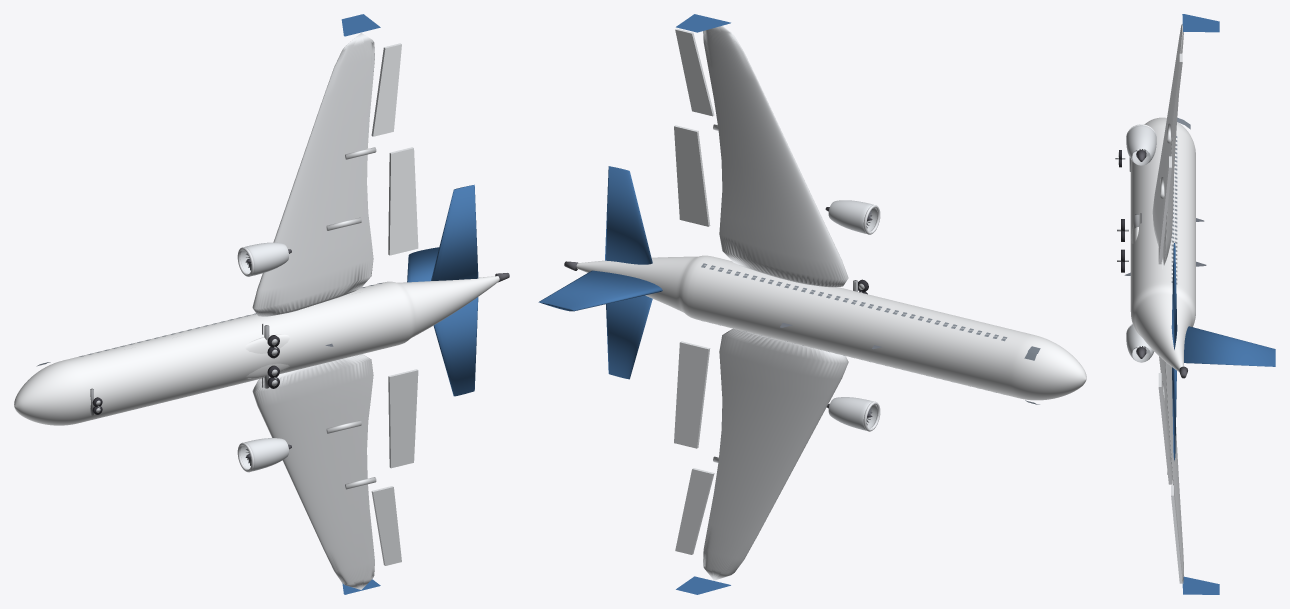
3 renders of one model, left to right at view 1: azimuth 30°, elevation 25°; view 2: azimuth 150°, elevation 25°; view 3: azimuth 270°, elevation 25°, orthographic.
Parts seen in each view (by area): view 1: Fuselage, Wing_R, Wing_L, HStab_R, HStab_L, Flap_R, Flap_L, Aileron_R, Aileron_L, Nacelle_1_0, Nacelle_-1_0, Fin (+1 smaller); view 2: Fuselage, Wing_L, Wing_R, HStab_R, Flap_L, Fin, HStab_L, Flap_R, Aileron_L, Aileron_R, Nacelle_-1_0, Nacelle_1_0 (+1 smaller); view 3: Fuselage, Fin, Wing_R, Wing_L, Nacelle_1_0, Sharklet_R, Sharklet_L, Flap_L, Flap_R, Nacelle_-1_0, HStab_R, Aileron_L (+3 smaller).
Boxes of the visible parts, x1=… form: Fuselage: x1=14, y1=276, x2=499, y2=425; Wing_R: x1=252, y1=33, x2=374, y2=316; Wing_L: x1=252, y1=354, x2=374, y2=589; HStab_R: x1=431, y1=184, x2=478, y2=280; HStab_L: x1=433, y1=297, x2=478, y2=396; Flap_R: x1=388, y1=147, x2=418, y2=255; Flap_L: x1=388, y1=369, x2=418, y2=468; Aileron_R: x1=371, y1=43, x2=401, y2=136; Aileron_L: x1=371, y1=486, x2=401, y2=565; Nacelle_1_0: x1=240, y1=242, x2=288, y2=276; Nacelle_-1_0: x1=240, y1=438, x2=288, y2=471; Fin: x1=407, y1=247, x2=439, y2=282; Fuselage: x1=576, y1=255, x2=1086, y2=400; Wing_L: x1=703, y1=328, x2=848, y2=580; Wing_R: x1=703, y1=25, x2=848, y2=287; HStab_R: x1=605, y1=166, x2=652, y2=264; Flap_L: x1=674, y1=341, x2=710, y2=448; Fin: x1=538, y1=270, x2=662, y2=311; HStab_L: x1=606, y1=295, x2=652, y2=379; Flap_R: x1=674, y1=125, x2=710, y2=226; Aileron_L: x1=675, y1=468, x2=714, y2=554; Aileron_R: x1=675, y1=28, x2=714, y2=116; Nacelle_-1_0: x1=828, y1=397, x2=877, y2=430; Nacelle_1_0: x1=828, y1=200, x2=877, y2=233; Fuselage: x1=1130, y1=117, x2=1195, y2=371; Fin: x1=1184, y1=326, x2=1275, y2=366; Wing_R: x1=1152, y1=24, x2=1183, y2=265; Wing_L: x1=1159, y1=356, x2=1183, y2=583; Nacelle_1_0: x1=1126, y1=125, x2=1156, y2=165; Sharklet_R: x1=1182, y1=14, x2=1219, y2=32; Sharklet_L: x1=1182, y1=576, x2=1219, y2=594; Flap_L: x1=1158, y1=373, x2=1171, y2=484; Flap_R: x1=1158, y1=156, x2=1171, y2=264; Nacelle_-1_0: x1=1126, y1=325, x2=1154, y2=362; HStab_R: x1=1171, y1=243, x2=1177, y2=349; Aileron_L: x1=1171, y1=485, x2=1182, y2=583.
Size of the model in its own units: 33.91 by 35.79 by 9.23.
